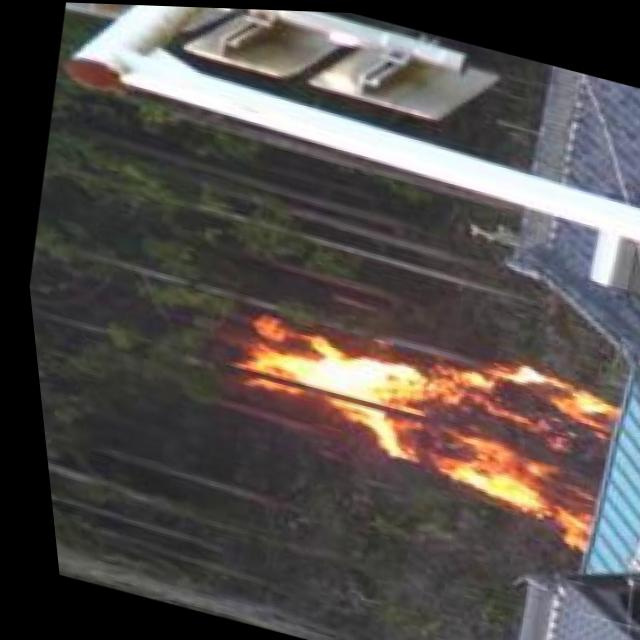Fire: (221, 292, 627, 534)
